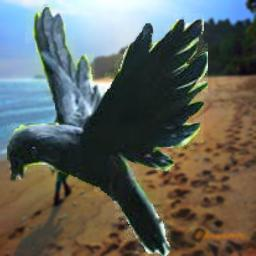Crow: (7, 0, 208, 256)
